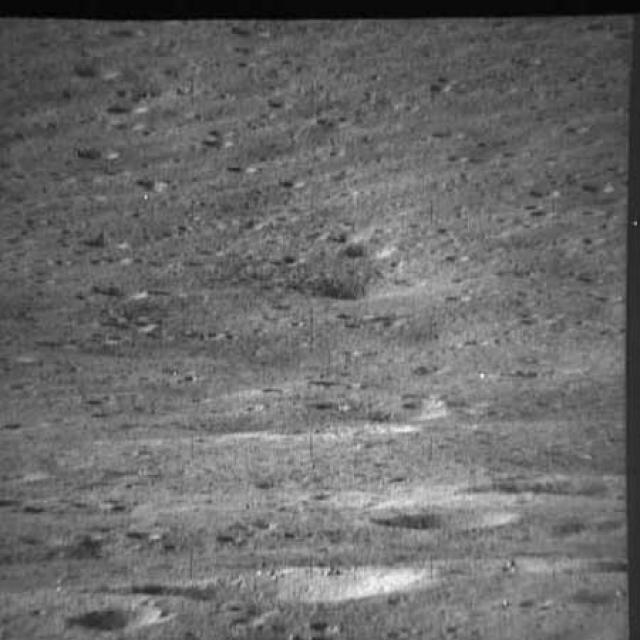crater: (79, 546, 454, 610), (299, 264, 426, 317), (372, 498, 517, 543), (56, 600, 165, 636), (329, 231, 410, 267), (72, 54, 125, 87), (70, 138, 124, 170), (302, 372, 372, 394)
